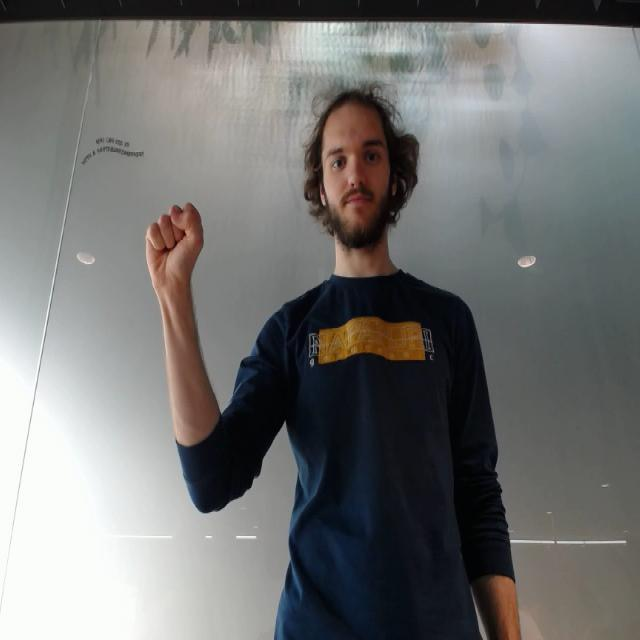stop: (138, 195, 206, 284)
